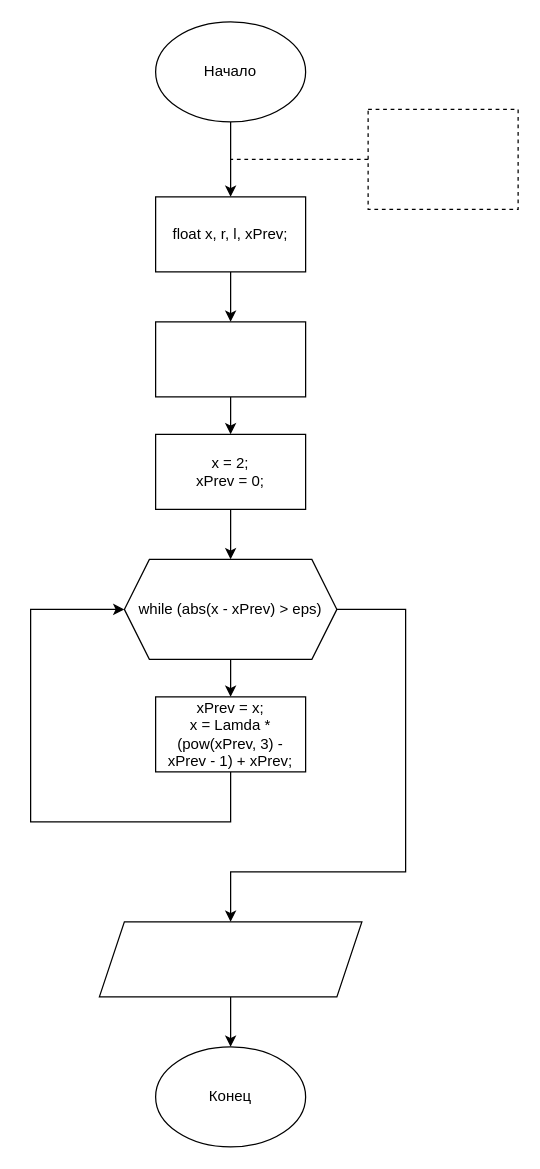
Some shapes in this 540 by 1169 pixel diagram are drawn without their labels. Each missing label, with the centre of its shape:
#include<iostream> using namespace std; int main(){setlocale(LC_ALL, "rus");}: (x=442, y=158)
cout << "Корень: " << x << endl;: (x=230, y=959)
double Lamda = -1.0 / 20.0, eps = 0.000001;: (x=230, y=359)
